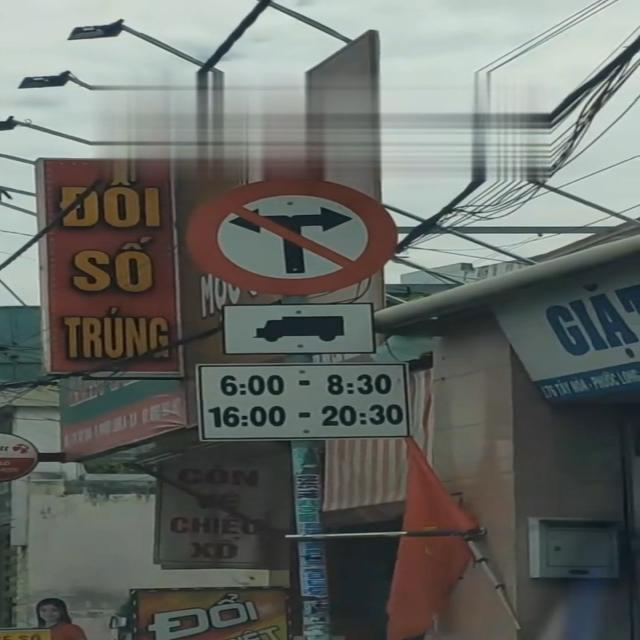137-cam-re-trai-va-re-phai: (192, 174, 398, 298)
